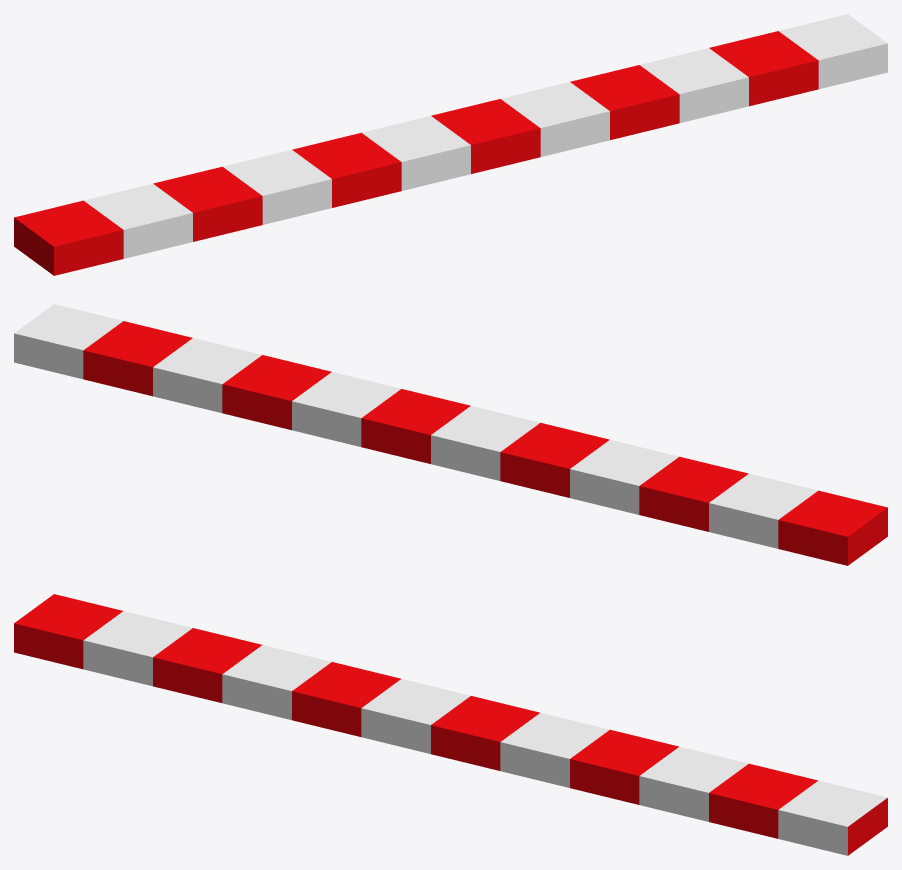
File: redline_short2.dae
The picture shows the model from 3 angles, top to bottom: view 1: azimuth 30°, elevation 25°; view 2: azimuth 150°, elevation 25°; view 3: azimuth 330°, elevation 25°; orthographic projection.
Parts seen in each view (by area): view 1: Plane.010, Plane; view 2: Plane.010, Plane; view 3: Plane.010, Plane.
Boxes of the visible parts, left/top/right/bottom form: Plane.010: left=14, top=31, right=818, bottom=275; Plane: left=84, top=14, right=887, bottom=258; Plane.010: left=83, top=321, right=887, bottom=565; Plane: left=14, top=304, right=817, bottom=548; Plane.010: left=14, top=594, right=887, bottom=855; Plane: left=83, top=611, right=887, bottom=855.
Bounding box in the file's own units: 0.6 × 0.05 × 0.02.
